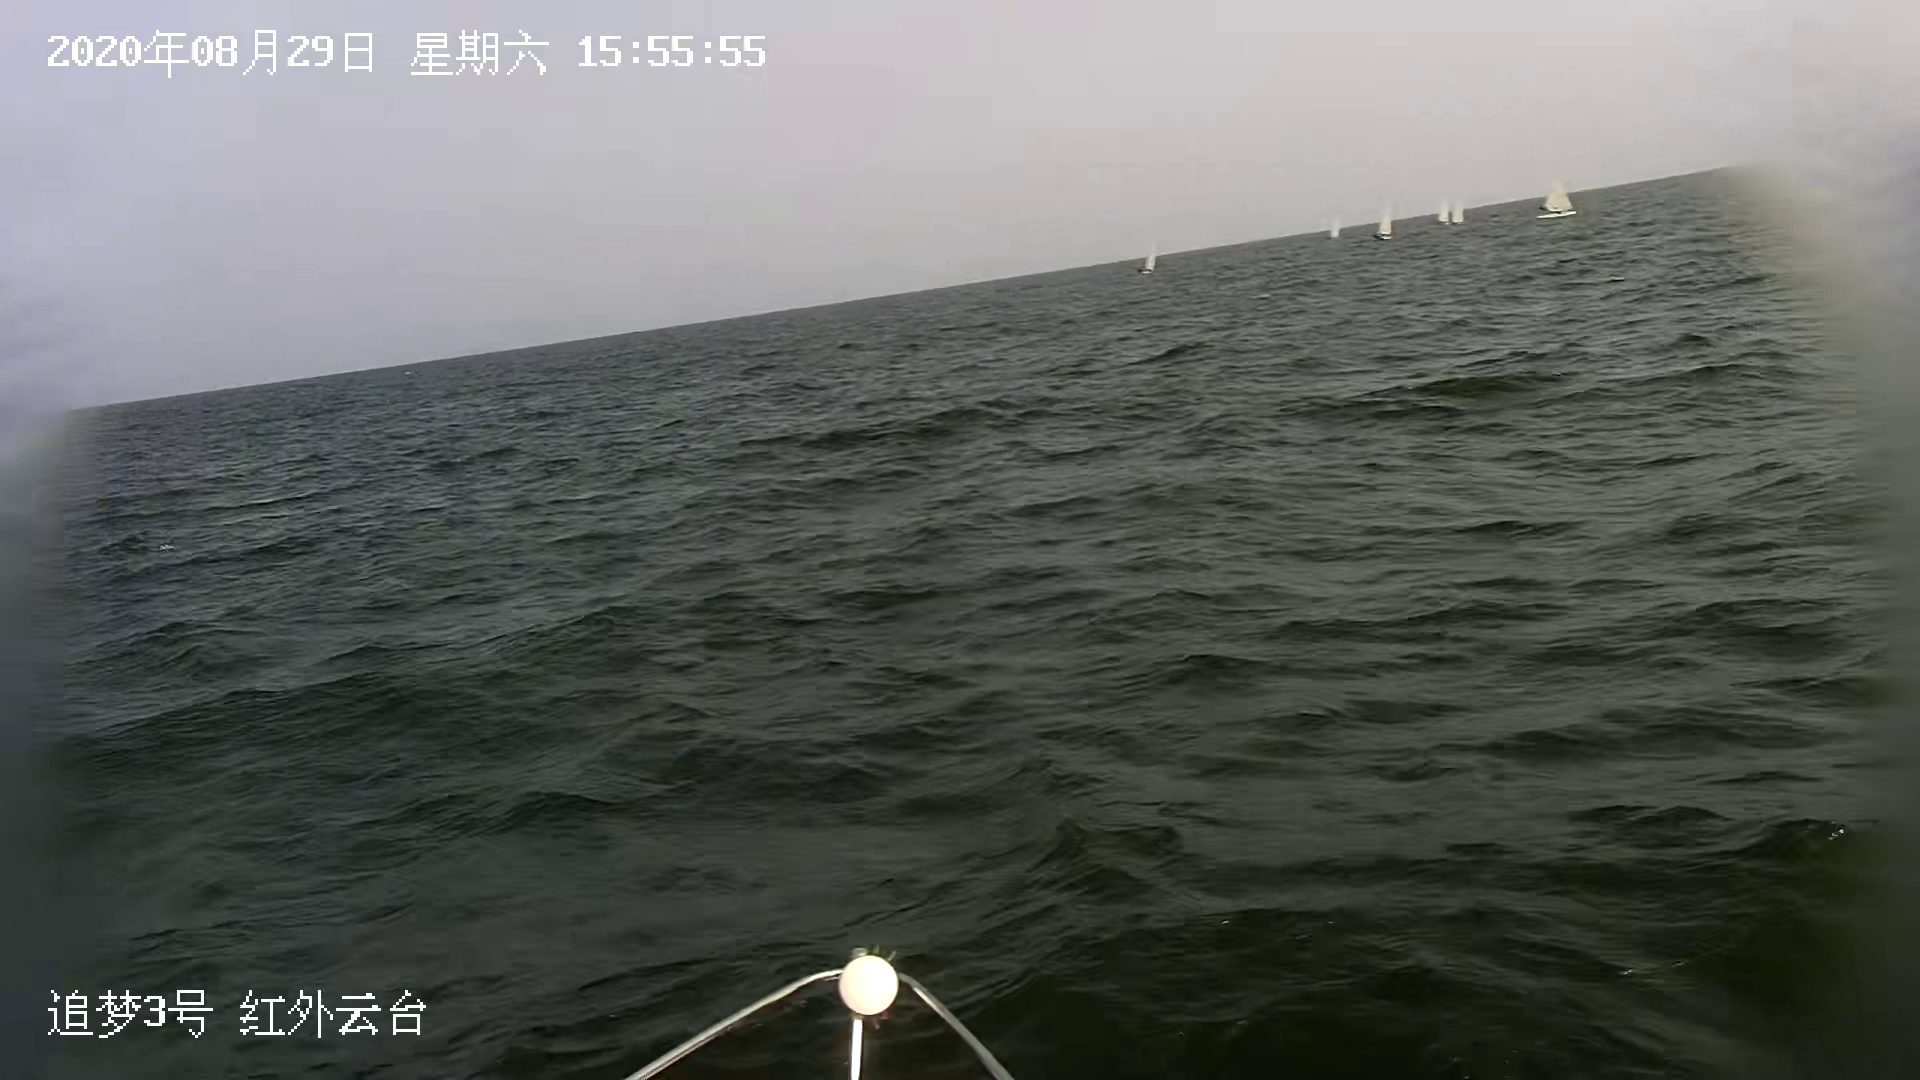barrier: (1538, 174, 1576, 220), (1375, 208, 1394, 240), (1139, 243, 1156, 276), (1451, 198, 1465, 224), (1329, 215, 1342, 243), (1437, 200, 1451, 223)
